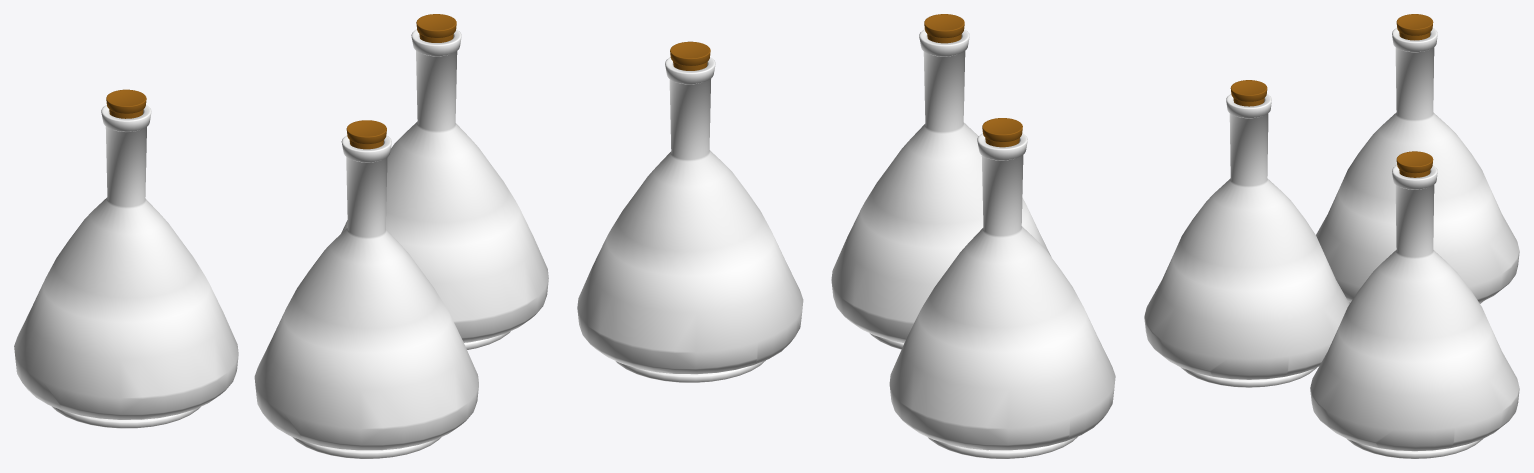
Rendered from erlenmeyer_potion_shape.glb.
3 renders of one model, left to right at view 1: azimuth 30°, elevation 25°; view 2: azimuth 150°, elevation 25°; view 3: azimuth 270°, elevation 25°, orthographic. The views are drawn at different scales.
Visible parts, largest first — view 1: Object_6, Object_4; view 2: Object_6, Object_4; view 3: Object_6, Object_4.
Boxes of the visible parts, <box> form: Object_6: <box>14,29,548,458</box>; Object_4: <box>106,14,456,149</box>; Object_6: <box>577,29,1115,458</box>; Object_4: <box>670,14,1022,147</box>; Object_6: <box>1144,28,1519,458</box>; Object_4: <box>1230,14,1433,177</box>.
Bounding box in the file's own units: 4.8 × 2.7 × 3.41.
